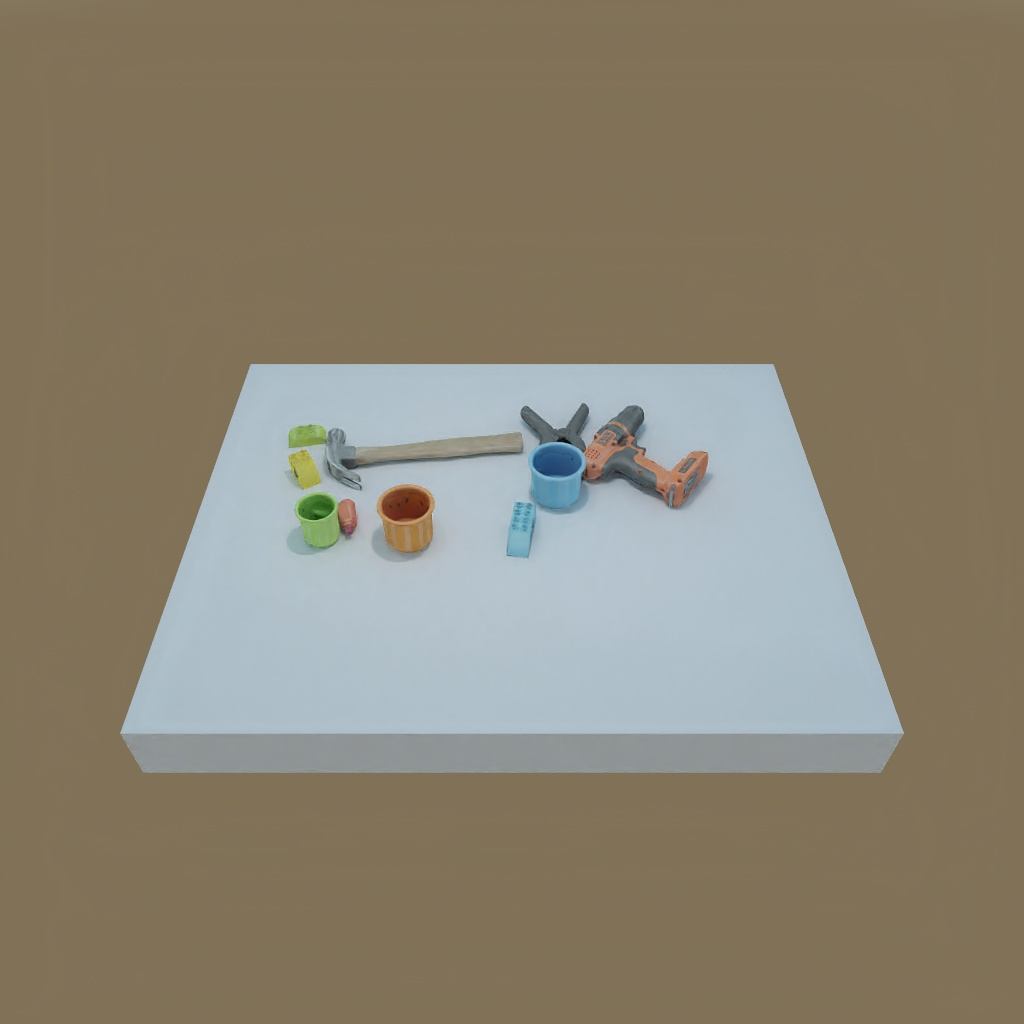hammer: (324, 425, 528, 487)
power_drill: (581, 405, 719, 511)
